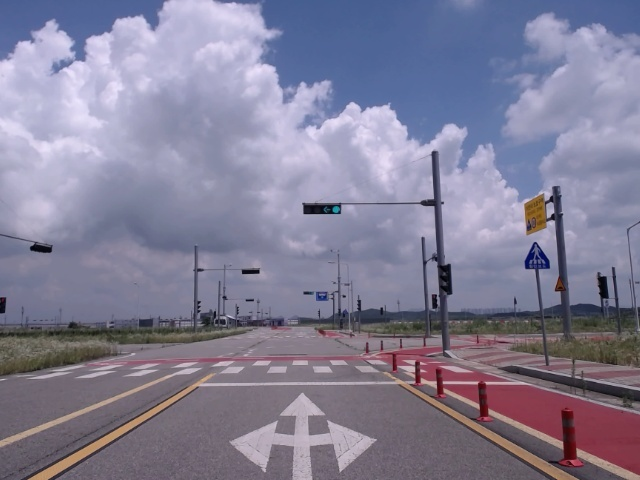all_green_4: (299, 201, 342, 216)
